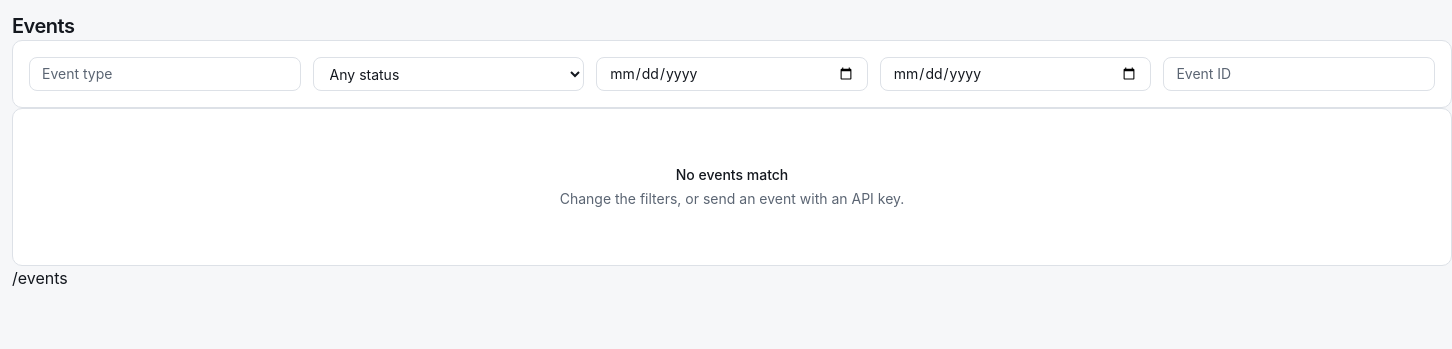
events explorer filters › writes filters to the URL and sends them to the API
The width and height of the screenshot is (1452, 349).
Select "failed" in the dropdown named "Status". click: {"x": 448, "y": 74}
box: [313,57,584,91]
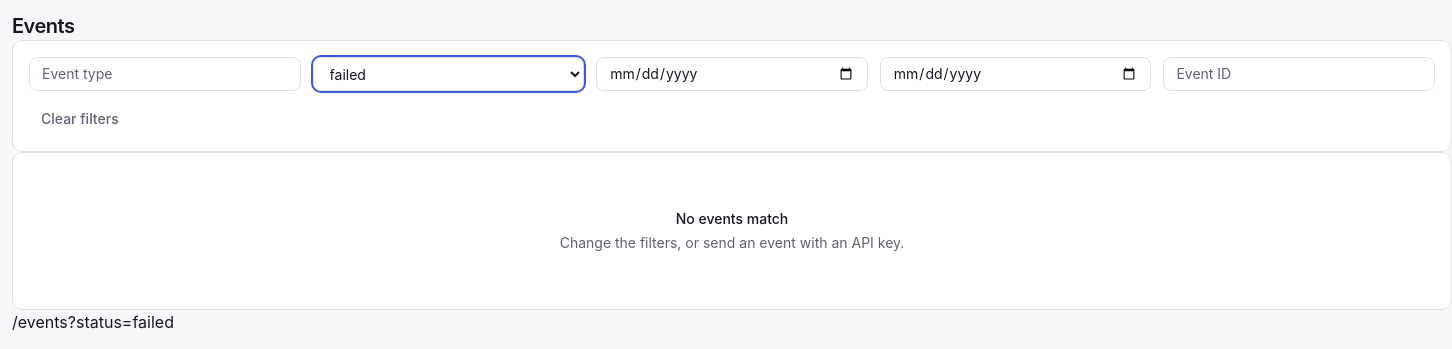
Now the text with test id "location" reads "/events?status=failed", box [12,312,174,332]
